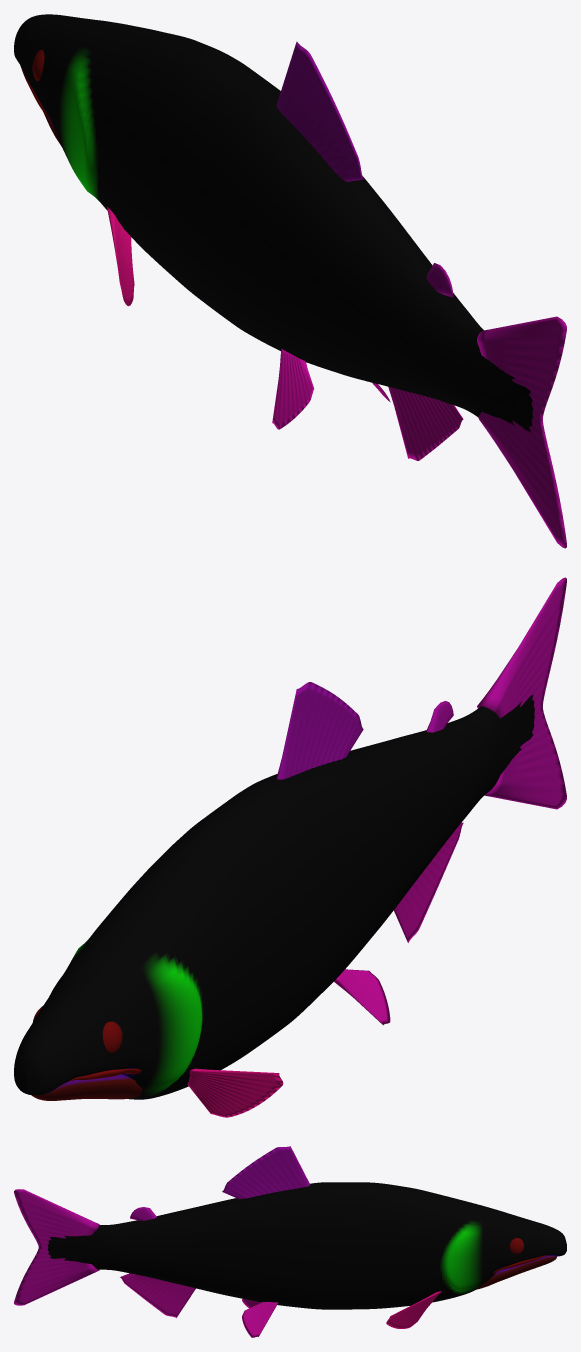
The model's file is sockeye_migrating.glb.
3 renders of one model, top to bottom at view 1: azimuth 30°, elevation 25°; view 2: azimuth 150°, elevation 25°; view 3: azimuth 270°, elevation 25°, orthographic. The views are drawn at different scales.
Visible parts, largest first — view 1: sockeye_migrating; view 2: sockeye_migrating; view 3: sockeye_migrating.
Boxes of the visible parts, bbox=[...] form: sockeye_migrating: bbox=[14, 14, 566, 548]; sockeye_migrating: bbox=[14, 577, 566, 1117]; sockeye_migrating: bbox=[14, 1146, 566, 1337].
Bounding box in the file's own units: 0.1022 × 0.2116 × 0.5967.
